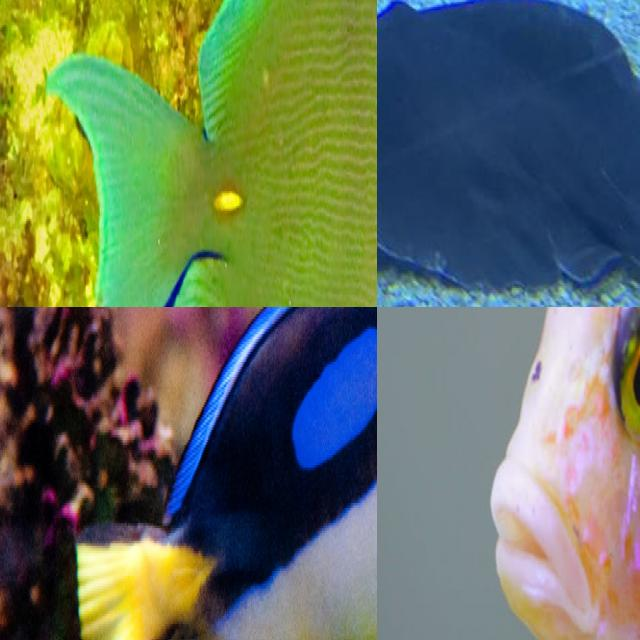fish: (0, 0, 377, 307), (65, 307, 377, 640), (377, 0, 640, 307)
